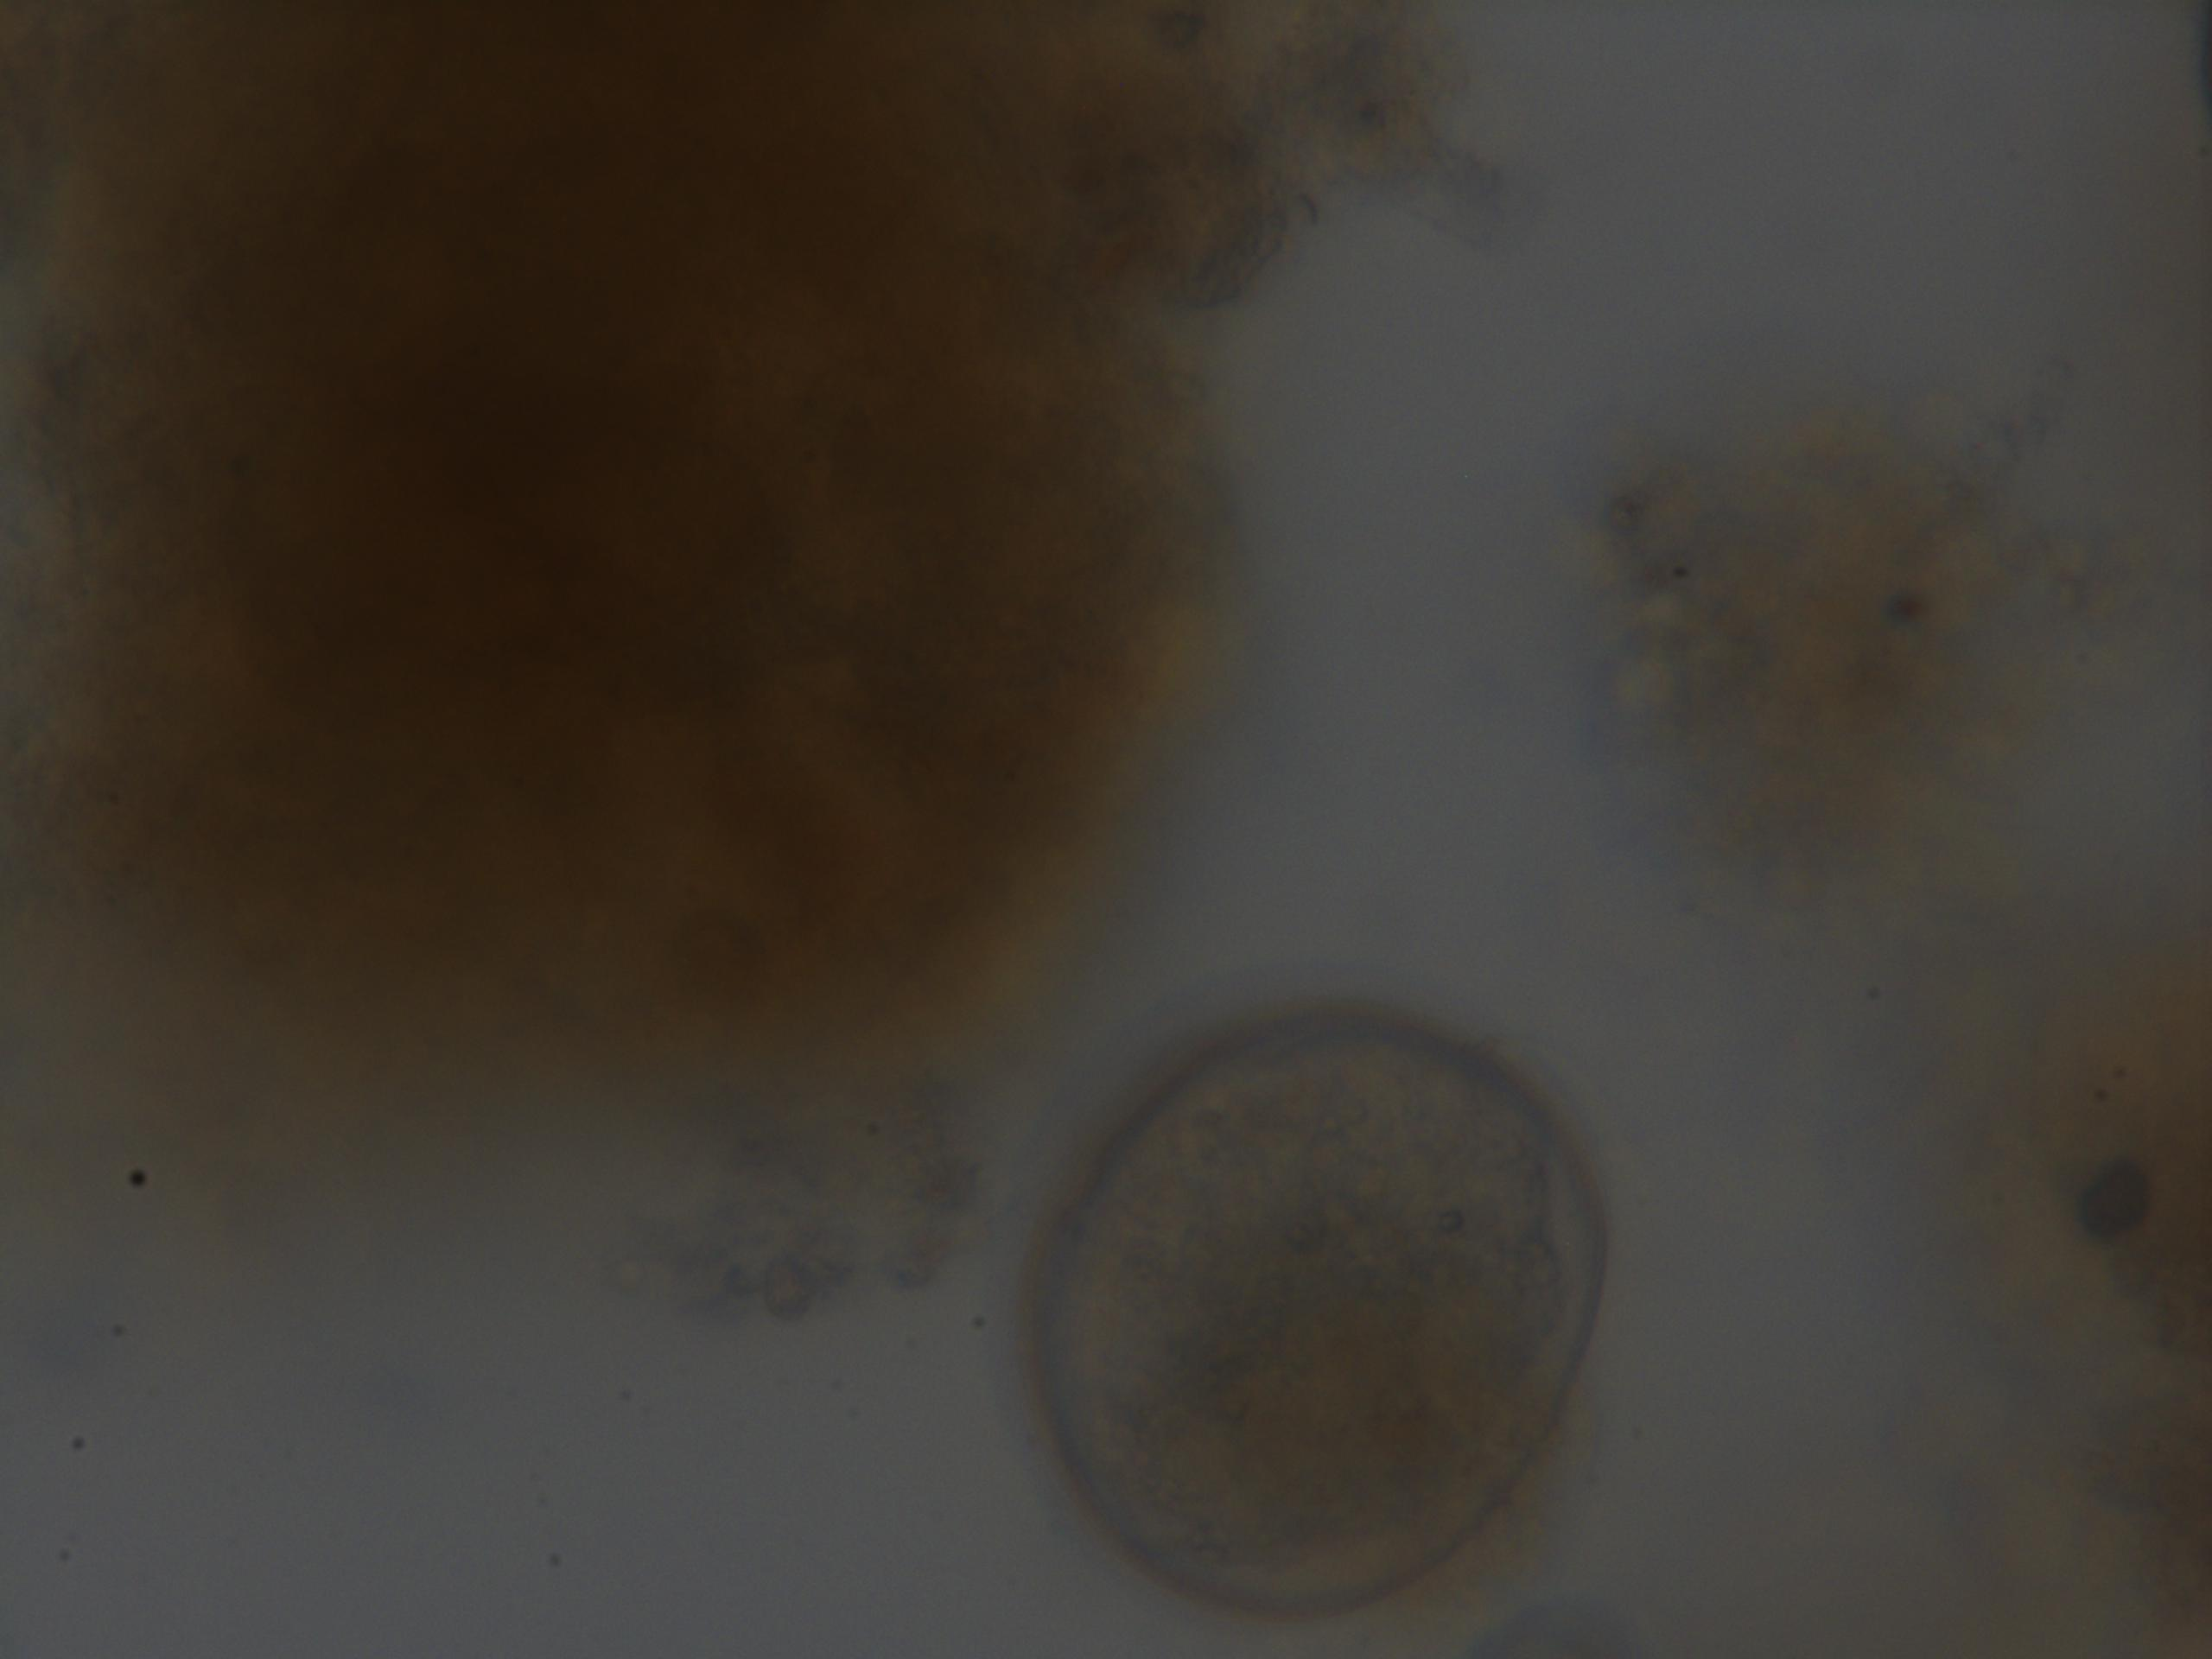protozoa: (1012, 995, 1629, 1622)
spherical_floc: (0, 7, 1278, 1124)
